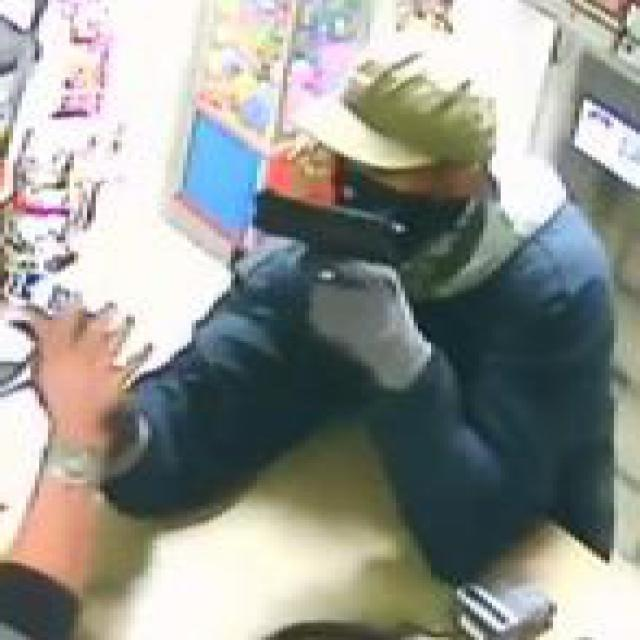weapon: (252, 190, 412, 290)
